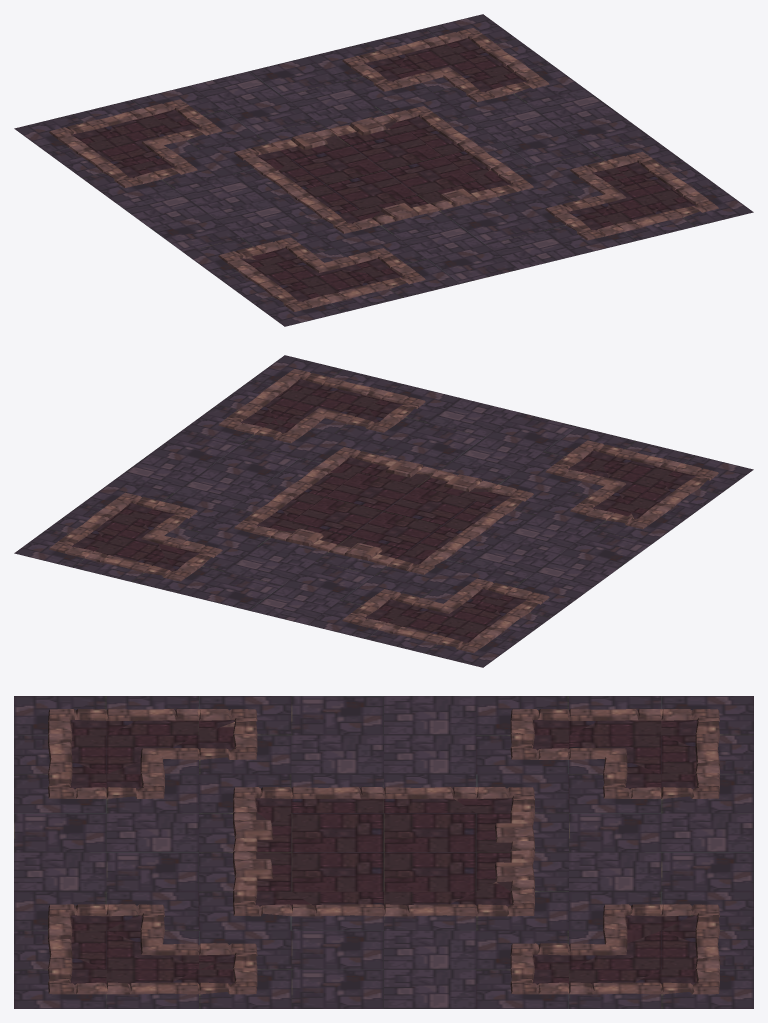
The model's file is Room_Floor_16_D.fbx.
The picture shows the model from 3 angles, top to bottom: view 1: azimuth 30°, elevation 25°; view 2: azimuth 150°, elevation 25°; view 3: azimuth 270°, elevation 25°; orthographic projection. The views are drawn at different scales.
Visible parts, largest first — view 1: Room_Floor_16_D; view 2: Room_Floor_16_D; view 3: Room_Floor_16_D.
Part boxes in pixels (x1,y1,x2,y2): Room_Floor_16_D: [14, 14, 753, 326]; Room_Floor_16_D: [14, 355, 753, 667]; Room_Floor_16_D: [14, 696, 753, 1008].
Bounding box in the file's own units: 1600 × 9.44 × 1600.
